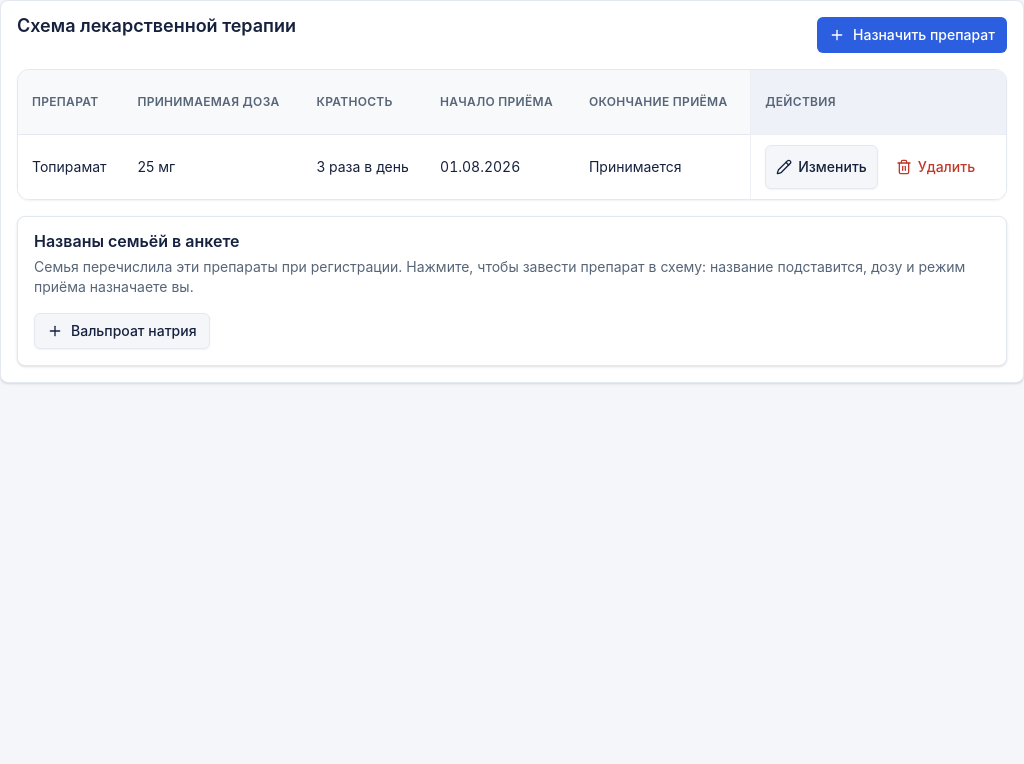
кратность приёма из списка › правка старой записи просит выбрать код и не подставляет его молча
Click the button with aria-label "Изменить назначение препарата Топирамат" at (821, 167), box [765,145,878,189]
(page scrolled)
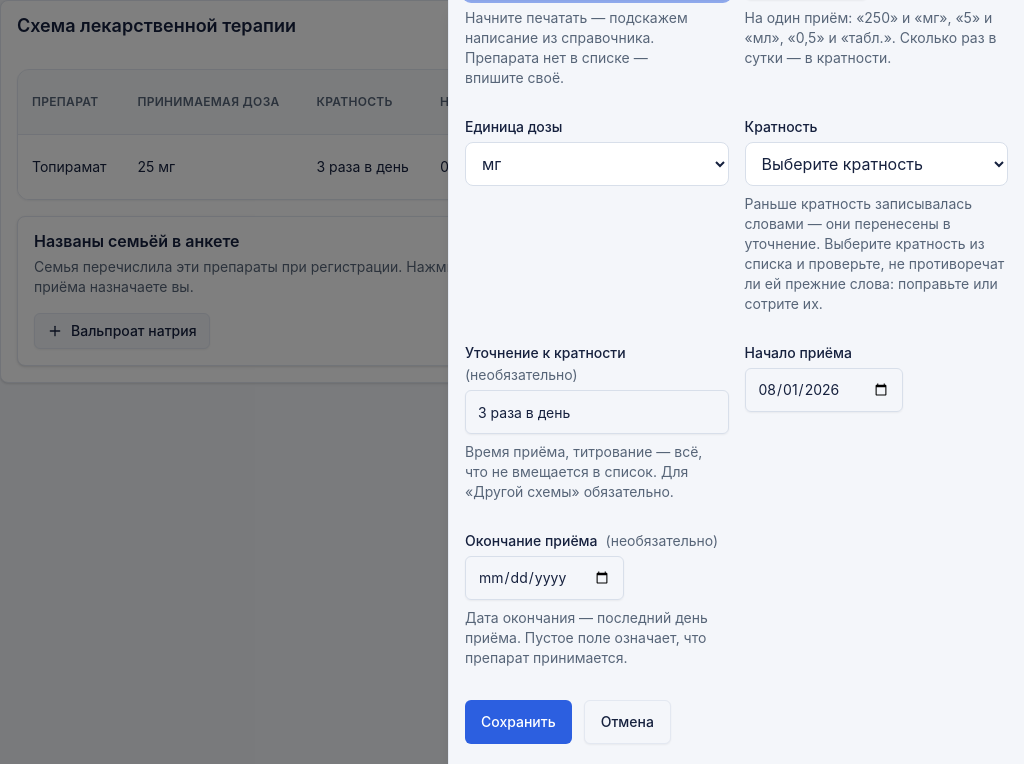
Result: the text "Раньше кратность записывалась словами — они перенесены в уточнение. Выберите кратность из списка и проверьте, не противо" is shown at [744,195,1004,312]
Result: the dropdown labelled "Кратность" shows "Выберите кратность" at [744,142,1008,186]
Result: the field labelled "Уточнение к кратности (необязательно)" holds "3 раза в день" at [465,390,728,434]
Click the button "Сохранить" at (518, 722), box [465,700,572,744]
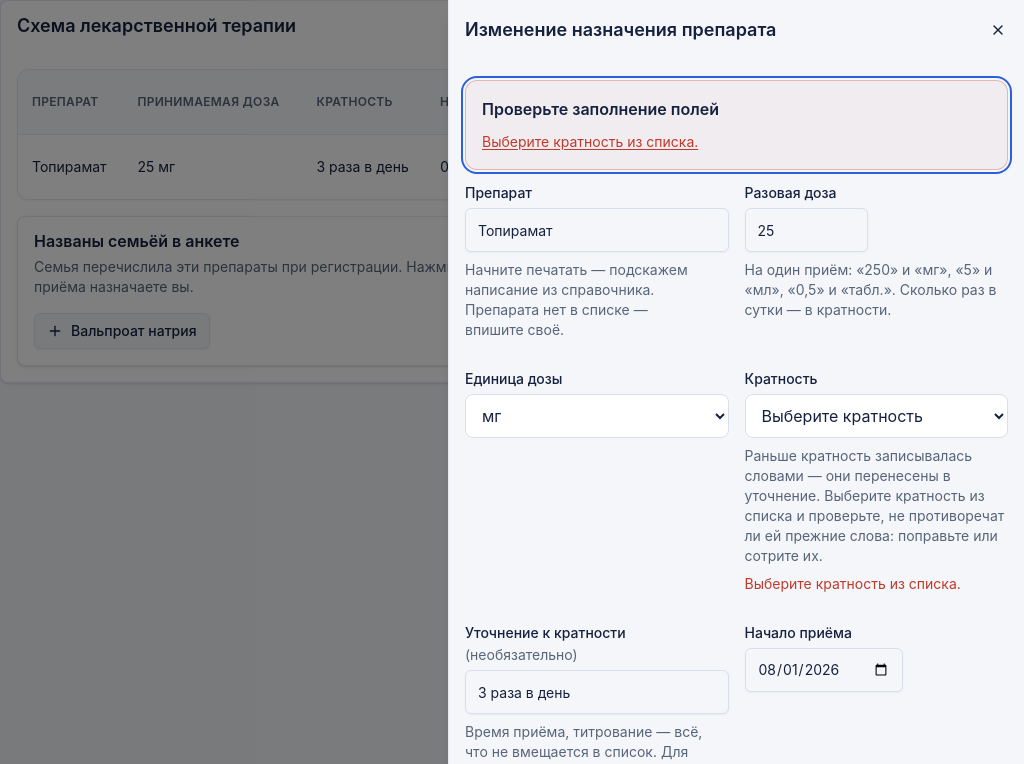
Result: the number of links "Выберите кратность из списка." is 2 at [482,133,698,150]; [744,575,961,592]
